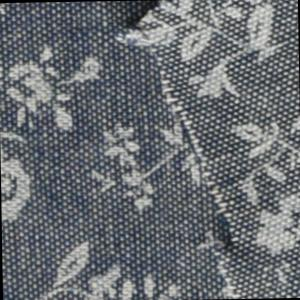Damage: (109, 1, 300, 300)
